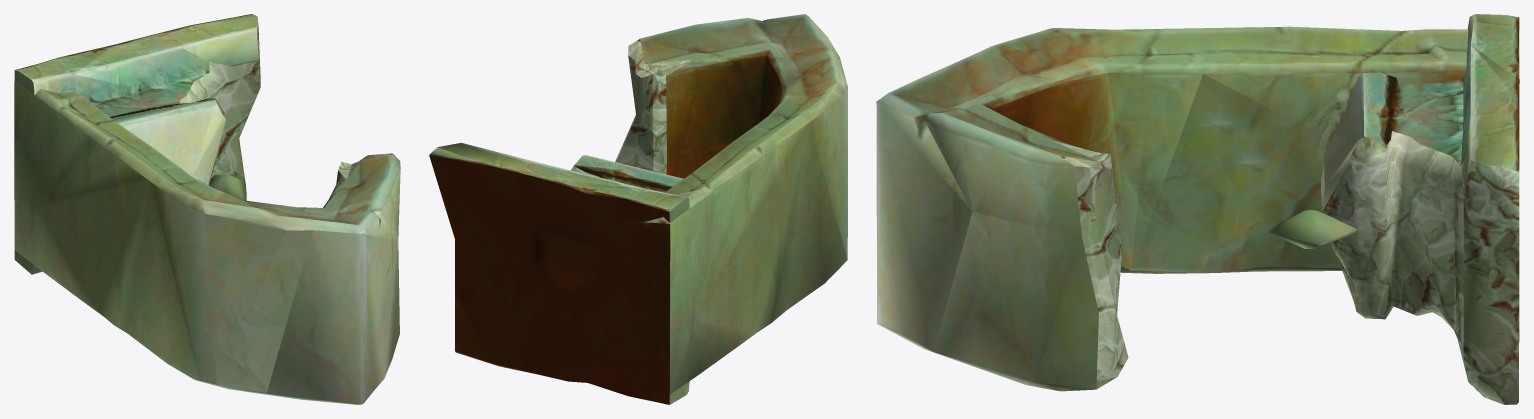
The model's file is Ruins_Wall_Arch_DMG_8Mx4M_B.fbx.
3 renders of one model, left to right at view 1: azimuth 30°, elevation 25°; view 2: azimuth 150°, elevation 25°; view 3: azimuth 270°, elevation 25°, orthographic. The views are drawn at different scales.
Visible parts, largest first — view 1: Ruins_Wall_Arch_DMG_8Mx4M_B; view 2: Ruins_Wall_Arch_DMG_8Mx4M_B; view 3: Ruins_Wall_Arch_DMG_8Mx4M_B.
Boxes of the visible parts, bbox=[...] form: Ruins_Wall_Arch_DMG_8Mx4M_B: bbox=[14, 14, 400, 404]; Ruins_Wall_Arch_DMG_8Mx4M_B: bbox=[429, 14, 847, 404]; Ruins_Wall_Arch_DMG_8Mx4M_B: bbox=[876, 14, 1519, 404].
Size of the model in its own units: 452 by 355 by 797.
